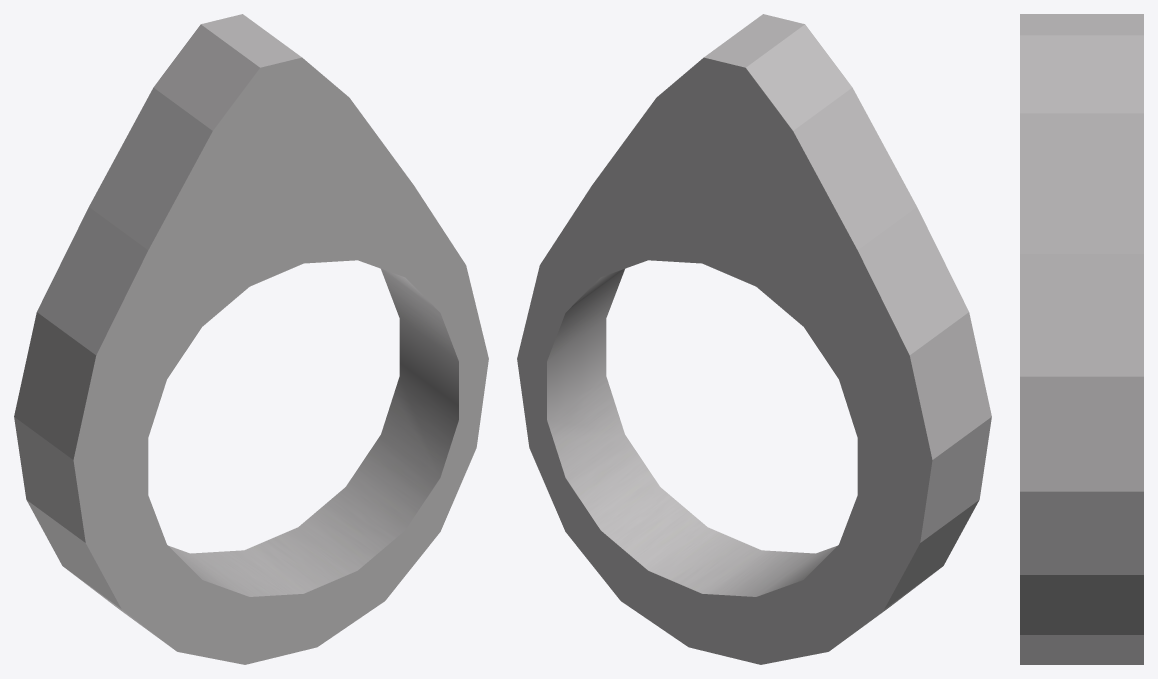
File: ringUp.fbx
The picture shows the model from 3 angles, left to right: view 1: azimuth 30°, elevation 25°; view 2: azimuth 150°, elevation 25°; view 3: azimuth 270°, elevation 25°; orthographic projection. The views are drawn at different scales.
Parts seen in each view (by area): view 1: CamRing3; view 2: CamRing3; view 3: CamRing3.
Boxes of the visible parts, x1=… form: CamRing3: x1=14, y1=14, x2=488, y2=664; CamRing3: x1=517, y1=14, x2=991, y2=664; CamRing3: x1=1020, y1=14, x2=1143, y2=664.
Bounding box in the file's own units: 5.21 × 7.11 × 1.29.
Materials: 1 (1 with a texture image).
